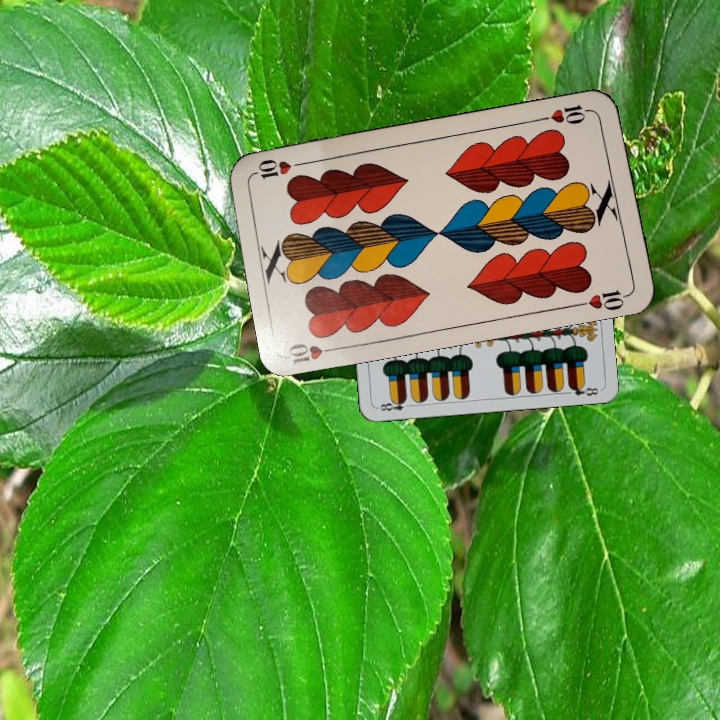E8: (374, 395, 414, 413)
H10: (284, 339, 344, 367), (537, 101, 596, 127)
